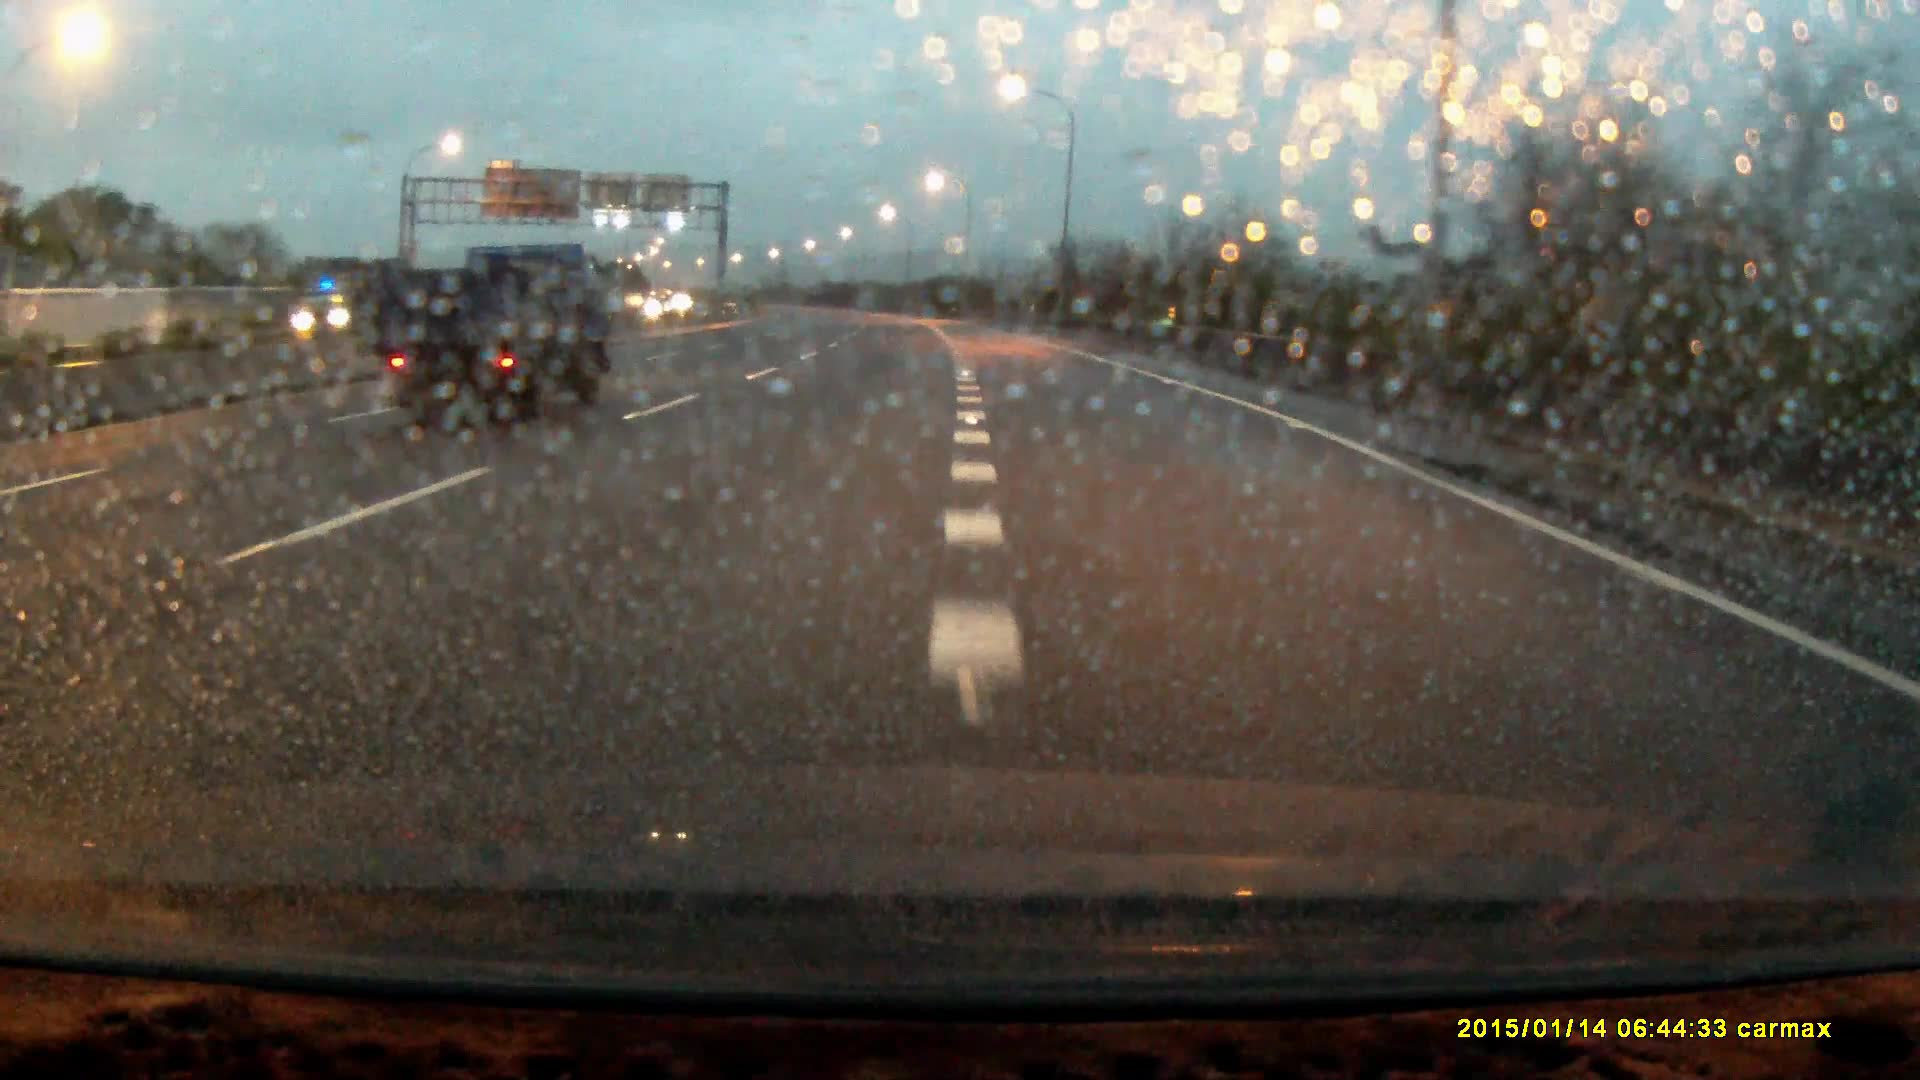vehicle: (373, 241, 603, 425)
